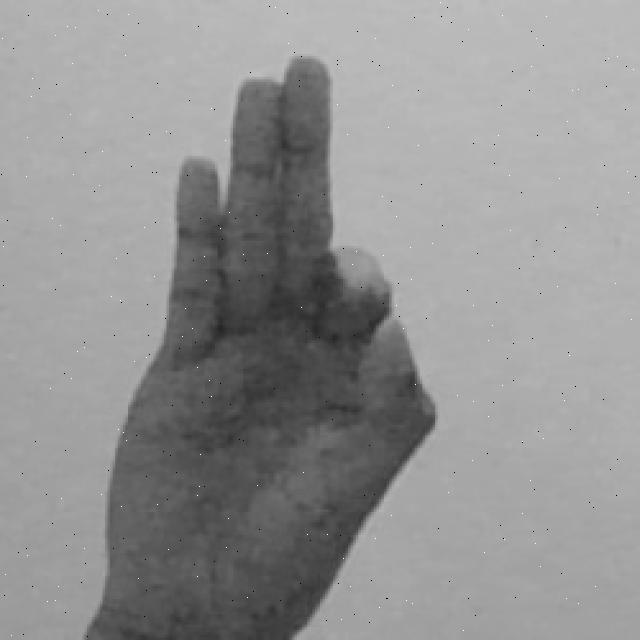F: (88, 53, 437, 640)
